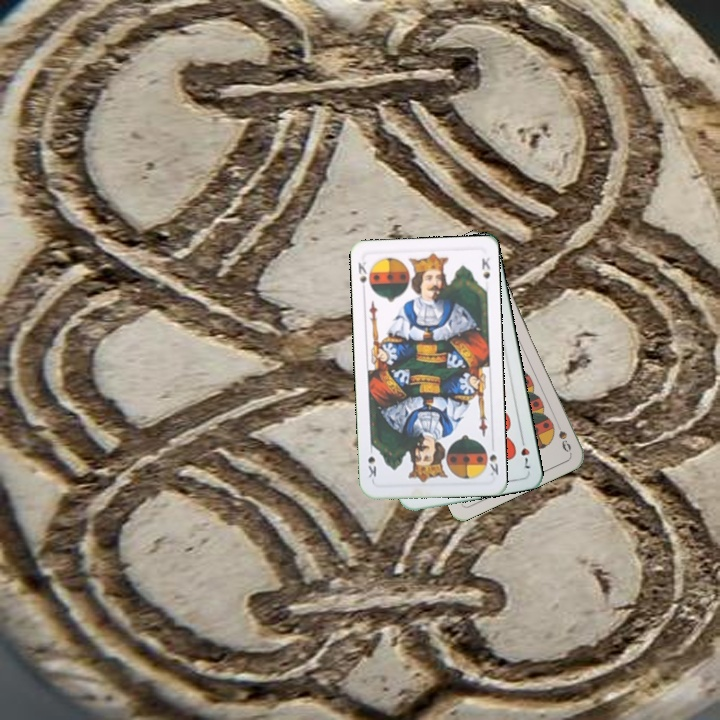H7: (517, 433, 533, 471)
S9: (551, 416, 574, 455)
SK: (354, 258, 374, 295), (486, 450, 501, 478)
